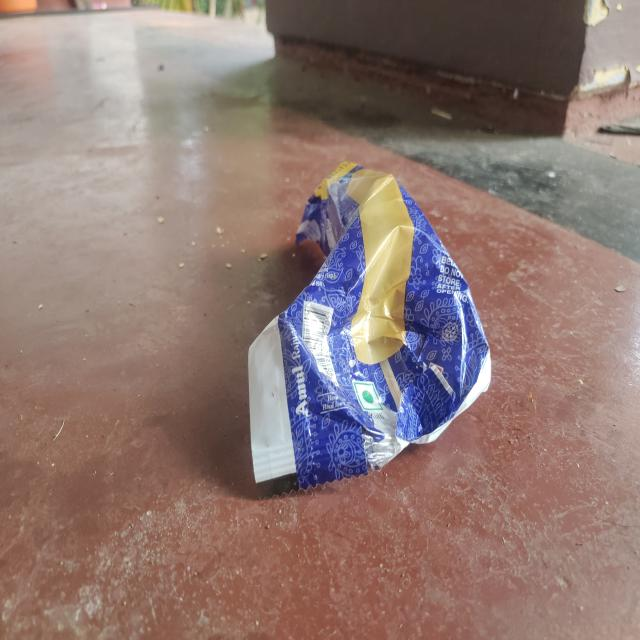plastic: (247, 159, 491, 486)
